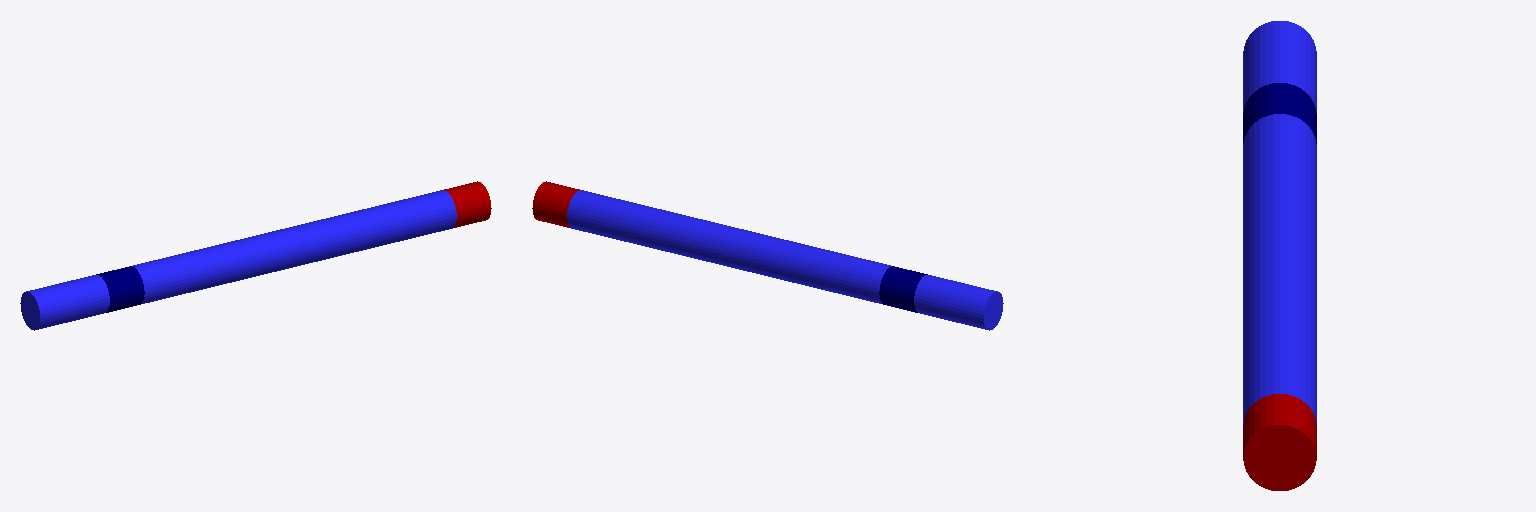
The robot description file, URDF, robot "snakebot":
<?xml version="1.0"?>
<robot name="snakebot">

  <!-- Base Link (First Cylinder - Blue) -->
  <link name="link1">
    <visual>
      <geometry>
        <cylinder length="0.07" radius="0.035"/>
      </geometry>
      <material name="blue">
        <color rgba="0.2 0.2 1 1"/>
      </material>
      <origin rpy="0 1.5708 0"/> <!-- Rotated 90° about y-axis -->
    </visual>
    <collision>
      <geometry>
        <cylinder length="0.07" radius="0.035"/>
      </geometry>
      <origin rpy="0 1.5708 0"/>
    </collision>
    <inertial>
      <origin xyz="0 0 0" rpy="0 0 0"/> <mass value="0.15"/>
      <inertia
        ixx="0.000091875" ixy="0.0" ixz="0.0"
        iyy="0.0001071875" iyz="0.0"
        izz="0.0001071875"
      />
    </inertial>
  </link>

  <!-- Second Cylinder - Red -->
  <link name="link2">
    <visual>
      <geometry>
        <cylinder length="0.07" radius="0.035"/>
      </geometry>
      <material name="white">
        <color rgba="0.2 0.2 1 1"/>
      </material>        
      <origin rpy="0 1.5708 0"/>
    </visual>
    <collision>
      <geometry>
        <cylinder length="0.07" radius="0.035"/>
      </geometry>
      <origin rpy="0 1.5708 0"/>
    </collision>
    <inertial>
      <origin xyz="0 0 0" rpy="0 0 0"/> <mass value="0.15"/>
      <inertia
        ixx="0.000091875" ixy="0.0" ixz="0.0"
        iyy="0.0001071875" iyz="0.0"
        izz="0.0001071875"
      />
    </inertial>
  </link>

  <!-- Third Cylinder - Green -->
  <link name="link3">
    <visual>
      <geometry>
        <cylinder length="0.07" radius="0.035"/>
      </geometry>
      <material name="blue">
        <color rgba="0 0 0.50196 1"/>
      </material>
      <origin rpy="0 1.5708 0"/>
    </visual>
    <collision>
      <geometry>
        <cylinder length="0.07" radius="0.035"/>
      </geometry>
      <origin rpy="0 1.5708 0"/>
    </collision>
    <inertial>
      <origin xyz="0 0 0" rpy="0 0 0"/> <mass value="0.15"/>
      <inertia
        ixx="0.000091875" ixy="0.0" ixz="0.0"
        iyy="0.0001071875" iyz="0.0"
        izz="0.0001071875"
      />
    </inertial>
  </link>

    <!-- Fourth Cylinder - Brown -->
  <link name="link4">
    <visual>
      <geometry>
        <cylinder length="0.07" radius="0.035"/>
      </geometry>
      <material name="white"/>
      <origin rpy="0 1.5708 0"/>
    </visual>
    <collision>
      <geometry>
        <cylinder length="0.07" radius="0.035"/>
      </geometry>
      <origin rpy="0 1.5708 0"/>
    </collision>
    <inertial>
      <origin xyz="0 0 0" rpy="0 0 0"/> <mass value="0.15"/>
      <inertia
        ixx="0.000091875" ixy="0.0" ixz="0.0"
        iyy="0.0001071875" iyz="0.0"
        izz="0.0001071875"
      />
    </inertial>
  </link>

      <!-- Fifth Cylinder - Gold -->
  <link name="link5">
    <visual>
      <geometry>
        <cylinder length="0.07" radius="0.035"/>
      </geometry>
      <material name="blue"/>
      <origin rpy="0 1.5708 0"/>
    </visual>
    <collision>
      <geometry>
        <cylinder length="0.07" radius="0.035"/>
      </geometry>
      <origin rpy="0 1.5708 0"/>
    </collision>
    <inertial>
      <origin xyz="0 0 0" rpy="0 0 0"/> <mass value="0.15"/>
      <inertia
        ixx="0.000091875" ixy="0.0" ixz="0.0"
        iyy="0.0001071875" iyz="0.0"
        izz="0.0001071875"
      />
    </inertial>
  </link>

        <!-- Sixth Cylinder - Cyan -->
  <link name="link6">
    <visual>
      <geometry>
        <cylinder length="0.07" radius="0.035"/>
      </geometry>
      <material name="white"/>
      <origin rpy="0 1.5708 0"/>
    </visual>
    <collision>
      <geometry>
        <cylinder length="0.07" radius="0.035"/>
      </geometry>
      <origin rpy="0 1.5708 0"/>
    </collision>
    <inertial>
      <origin xyz="0 0 0" rpy="0 0 0"/> <mass value="0.15"/>
      <inertia
        ixx="0.000091875" ixy="0.0" ixz="0.0"
        iyy="0.0001071875" iyz="0.0"
        izz="0.0001071875"
      />
    </inertial>
  </link>

          <!-- Seventh Cylinder - Cyan -->
  <link name="link7">
    <visual>
      <geometry>
        <cylinder length="0.07" radius="0.035"/>
      </geometry>
      <material name="blue"/>
      <origin rpy="0 1.5708 0"/>
    </visual>
    <collision>
      <geometry>
        <cylinder length="0.07" radius="0.035"/>
      </geometry>
      <origin rpy="0 1.5708 0"/>
    </collision>
    <inertial>
      <origin xyz="0 0 0" rpy="0 0 0"/> <mass value="0.15"/>
      <inertia
        ixx="0.000091875" ixy="0.0" ixz="0.0"
        iyy="0.0001071875" iyz="0.0"
        izz="0.0001071875"
      />
    </inertial>
  </link>

          <!-- Eigth Cylinder - Cyan -->
  <link name="link8">
    <visual>
      <geometry>
        <cylinder length="0.07" radius="0.035"/>
      </geometry>
      <material name="white"/>
      <origin rpy="0 1.5708 0"/>
    </visual>
    <collision>
      <geometry>
        <cylinder length="0.07" radius="0.035"/>
      </geometry>
      <origin rpy="0 1.5708 0"/>
    </collision>
    <inertial>
      <origin xyz="0 0 0" rpy="0 0 0"/> <mass value="0.15"/>
      <inertia
        ixx="0.000091875" ixy="0.0" ixz="0.0"
        iyy="0.0001071875" iyz="0.0"
        izz="0.0001071875"
      />
    </inertial>
  </link>

            <!-- Ninth Cylinder - Cyan -->
  <link name="link9">
    <visual>
      <geometry>
        <cylinder length="0.07" radius="0.035"/>
      </geometry>
      <material name="blue"/>
      <origin rpy="0 1.5708 0"/>
    </visual>
    <collision>
      <geometry>
        <cylinder length="0.07" radius="0.035"/>
      </geometry>
      <origin rpy="0 1.5708 0"/>
    </collision>
    <inertial>
      <origin xyz="0 0 0" rpy="0 0 0"/> <mass value="0.15"/>
      <inertia
        ixx="0.000091875" ixy="0.0" ixz="0.0"
        iyy="0.0001071875" iyz="0.0"
        izz="0.0001071875"
      />
    </inertial>
  </link>

              <!-- Tenth Cylinder - Cyan -->
  <link name="link10">
    <visual>
      <geometry>
        <cylinder length="0.07" radius="0.035"/>
      </geometry>
      <material name="white"/>
      <origin rpy="0 1.5708 0"/>
    </visual>
    <collision>
      <geometry>
        <cylinder length="0.07" radius="0.035"/>
      </geometry>
      <origin rpy="0 1.5708 0"/>
    </collision>
    <inertial>
      <origin xyz="0 0 0" rpy="0 0 0"/> <mass value="0.15"/>
      <inertia
        ixx="0.000091875" ixy="0.0" ixz="0.0"
        iyy="0.0001071875" iyz="0.0"
        izz="0.0001071875"
      />
    </inertial>
  </link>


              <!-- Eleventh Cylinder - Cyan -->
  <link name="link11">
    <visual>
      <geometry>
        <cylinder length="0.07" radius="0.035"/>
      </geometry>
      <material name="blue"/>
      <origin rpy="0 1.5708 0"/>
    </visual>
    <collision>
      <geometry>
        <cylinder length="0.07" radius="0.035"/>
      </geometry>
      <origin rpy="0 1.5708 0"/>
    </collision>
    <inertial>
      <origin xyz="0 0 0" rpy="0 0 0"/> <mass value="0.15"/>
      <inertia
        ixx="0.000091875" ixy="0.0" ixz="0.0"
        iyy="0.0001071875" iyz="0.0"
        izz="0.0001071875"
      />
    </inertial>
  </link>

                <!-- Twelveth Cylinder - Cyan -->
  <link name="link12">
    <visual>
      <geometry>
        <cylinder length="0.07" radius="0.035"/>
      </geometry>
      <material name="white"/>
      <origin rpy="0 1.5708 0"/>
    </visual>
    <collision>
      <geometry>
        <cylinder length="0.07" radius="0.035"/>
      </geometry>
      <origin rpy="0 1.5708 0"/>
    </collision>
    <inertial>
      <origin xyz="0 0 0" rpy="0 0 0"/> <mass value="0.15"/>
      <inertia
        ixx="0.000091875" ixy="0.0" ixz="0.0"
        iyy="0.0001071875" iyz="0.0"
        izz="0.0001071875"
      />
    </inertial>
  </link>


              <!-- Head Link - Red  -->
  <link name="link13">
    <visual>
      <geometry>
        <cylinder length="0.07" radius="0.035"/>
      </geometry>
      <material name="crimson">
        <color rgba="0.7019 0 0 1"/>
      </material>
      <origin rpy="0 1.5708 0"/>
    </visual>
    <collision>
      <geometry>
        <cylinder length="0.07" radius="0.035"/>
      </geometry>
      <origin rpy="0 1.5708 0"/>
    </collision>
    <inertial>
      <origin xyz="0 0 0" rpy="0 0 0"/> <mass value="0.15"/>
      <inertia
        ixx="0.000091875" ixy="0.0" ixz="0.0"
        iyy="0.0001071875" iyz="0.0"
        izz="0.0001071875"
      />
    </inertial>
  </link>


  <!-- Joint between link1 and link2 -->
  <joint name="pitch_1" type="revolute">
    <parent link="link1"/>
    <child link="link2"/>
    <axis xyz="0 0 1"/>
    <origin xyz="0.07 0 0" rpy="0 0 0"/> <!-- 0.2m length + 0.01m gap -->
    <limit lower="-1.5" upper="1.5" />
  </joint>

  <!-- Joint between link2 and link3 -->
  <joint name="yaw_1" type="revolute">
    <parent link="link2"/>
    <child link="link3"/>
    <axis xyz="0 0 1"/>
    <origin xyz="0.07 0 0" rpy="0 0 0"/> <!-- 0.2m length + 0.01m gap -->
    <limit lower="-1.5" upper="1.5" />
  </joint>

    <!-- Joint between link3 and link4 -->
  <joint name="pitch_2" type="revolute">
    <parent link="link3"/>
    <child link="link4"/>
    <axis xyz="0 0 1"/>
    <origin xyz="0.07 0 0" rpy="0 0 0"/> <!-- 0.2m length + 0.01m gap -->
    <limit lower="-1.5" upper="1.5" effort="10.0" velocity="1.0"/>
  </joint>

      <!-- Joint between link4 and link5 -->
  <joint name="yaw_2" type="revolute">
    <parent link="link4"/>
    <child link="link5"/>
    <axis xyz="0 0 1"/>
    <origin xyz="0.07 0 0" rpy="0 0 0"/> <!-- 0.2m length + 0.01m gap -->
    <limit lower="-1.5" upper="1.5" />
  </joint>

        <!-- Joint between link5 and link6 -->
  <joint name="pitch_3" type="revolute">
    <parent link="link5"/>
    <child link="link6"/>
    <axis xyz="0 0 1"/>
    <origin xyz="0.07 0 0" rpy="0 0 0"/> <!-- 0.2m length + 0.01m gap -->
    <limit lower="-1.5" upper="1.5" />
  </joint>

          <!-- Joint between link6 and link7 -->
  <joint name="yaw_3" type="revolute">
    <parent link="link6"/>
    <child link="link7"/>
    <axis xyz="0 0 1"/>
    <origin xyz="0.07 0 0" rpy="0 0 0"/> <!-- 0.2m length + 0.01m gap -->
    <limit lower="-1.5" upper="1.5" />
  </joint>

          <!-- Joint between link7 and link8 -->
  <joint name="pitch_4" type="revolute">
    <parent link="link7"/>
    <child link="link8"/>
    <axis xyz="0 0 1"/>
    <origin xyz="0.07 0 0" rpy="0 0 0"/> <!-- 0.2m length + 0.01m gap -->
    <limit lower="-1.5" upper="1.5" />
  </joint>

            <!-- Joint between link8 and link9 -->
  <joint name="yaw_4" type="revolute">
    <parent link="link8"/>
    <child link="link9"/>
    <axis xyz="0 0 1"/>
    <origin xyz="0.07 0 0" rpy="0 0 0"/> <!-- 0.2m length + 0.01m gap -->
    <limit lower="-1.5" upper="1.5" />
  </joint>

              <!-- Joint between link9 and link10 -->
  <joint name="pitch_5" type="revolute">
    <parent link="link9"/>
    <child link="link10"/>
    <axis xyz="0 0 1"/>
    <origin xyz="0.07 0 0" rpy="0 0 0"/> <!-- 0.2m length + 0.01m gap -->
    <limit lower="-1.5" upper="1.5" />
  </joint>


                <!-- Joint between link10 and link11 -->
  <joint name="yaw_5" type="revolute">
    <parent link="link10"/>
    <child link="link11"/>
    <axis xyz="0 0 1"/>
    <origin xyz="0.07 0 0" rpy="0 0 0"/> <!-- 0.2m length + 0.01m gap -->
    <limit lower="-1.5" upper="1.5" />
  </joint>

                  <!-- Joint between link11 and link12 -->
  <joint name="pitch_6" type="revolute">
    <parent link="link11"/>
    <child link="link12"/>
    <axis xyz="0 0 1"/>
    <origin xyz="0.07 0 0" rpy="0 0 0"/> <!-- 0.2m length + 0.01m gap -->
    <limit lower="-1.5" upper="1.5" />
  </joint>


                <!-- Joint between link12 and link13 -->
  <joint name="yaw_6" type="revolute">
    <parent link="link12"/>
    <child link="link13"/>
    <axis xyz="0 0 1"/>
    <origin xyz="0.07 0 0" rpy="0 0 0"/> <!-- 0.2m length + 0.01m gap -->
    <limit lower="-1.5" upper="1.5" />
  </joint>



</robot>

--- Render facts (derived) ---
Views: 3 orthographic renders of the robot side by side, from view 1: azimuth 30°, elevation 25°; view 2: azimuth 150°, elevation 25°; view 3: azimuth 270°, elevation 25°.
Model snakebot with 13 links and 12 joints (12 revolute), rooted at link1, posed every joint at zero.
Links seen in each view (by area): view 1: link1, link5, link3, link9, link12, link8, link11, link2, link6, link4, link10, link7 (+1 smaller); view 2: link1, link5, link3, link9, link12, link8, link11, link2, link6, link4, link10, link7 (+1 smaller); view 3: link13, link4, link7, link9, link10, link3, link8, link5, link6, link2, link1, link11 (+1 smaller).
Link boxes in pixels (x1=…): link1: x1=20, y1=283, x2=74, y2=330; link5: x1=166, y1=249, x2=213, y2=295; link3: x1=96, y1=266, x2=144, y2=312; link9: x1=305, y1=215, x2=352, y2=261; link12: x1=409, y1=190, x2=456, y2=236; link8: x1=271, y1=224, x2=317, y2=270; link11: x1=375, y1=198, x2=421, y2=244; link2: x1=63, y1=275, x2=109, y2=321; link6: x1=202, y1=241, x2=248, y2=287; link4: x1=133, y1=258, x2=178, y2=303; link10: x1=340, y1=207, x2=386, y2=253; link7: x1=235, y1=232, x2=282, y2=278; link1: x1=949, y1=283, x2=1003, y2=330; link5: x1=810, y1=249, x2=857, y2=295; link3: x1=879, y1=266, x2=927, y2=312; link9: x1=671, y1=215, x2=718, y2=261; link12: x1=567, y1=190, x2=614, y2=236; link8: x1=706, y1=224, x2=752, y2=270; link11: x1=602, y1=198, x2=648, y2=244; link2: x1=914, y1=275, x2=960, y2=321; link6: x1=775, y1=241, x2=821, y2=287; link4: x1=845, y1=258, x2=890, y2=303; link10: x1=637, y1=207, x2=683, y2=253; link7: x1=741, y1=232, x2=788, y2=278; link13: x1=1243, y1=394, x2=1316, y2=490; link4: x1=1243, y1=114, x2=1316, y2=175; link7: x1=1243, y1=207, x2=1316, y2=268; link9: x1=1243, y1=269, x2=1316, y2=330; link10: x1=1243, y1=300, x2=1316, y2=361; link3: x1=1243, y1=83, x2=1316, y2=143; link8: x1=1243, y1=238, x2=1316, y2=299; link5: x1=1243, y1=145, x2=1316, y2=206; link6: x1=1243, y1=176, x2=1316, y2=237; link2: x1=1243, y1=52, x2=1316, y2=112; link1: x1=1243, y1=21, x2=1316, y2=81; link11: x1=1243, y1=332, x2=1316, y2=392.
Bounding box of the posed robot: 0.91 × 0.07 × 0.07 m (x, y, z).
Geometry: primitives only (box / cylinder / sphere), no mesh files.
